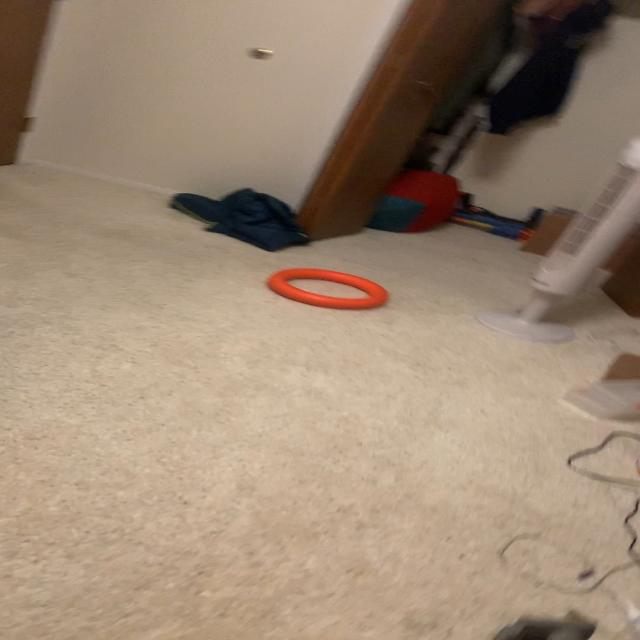notes: (268, 270, 388, 308)
